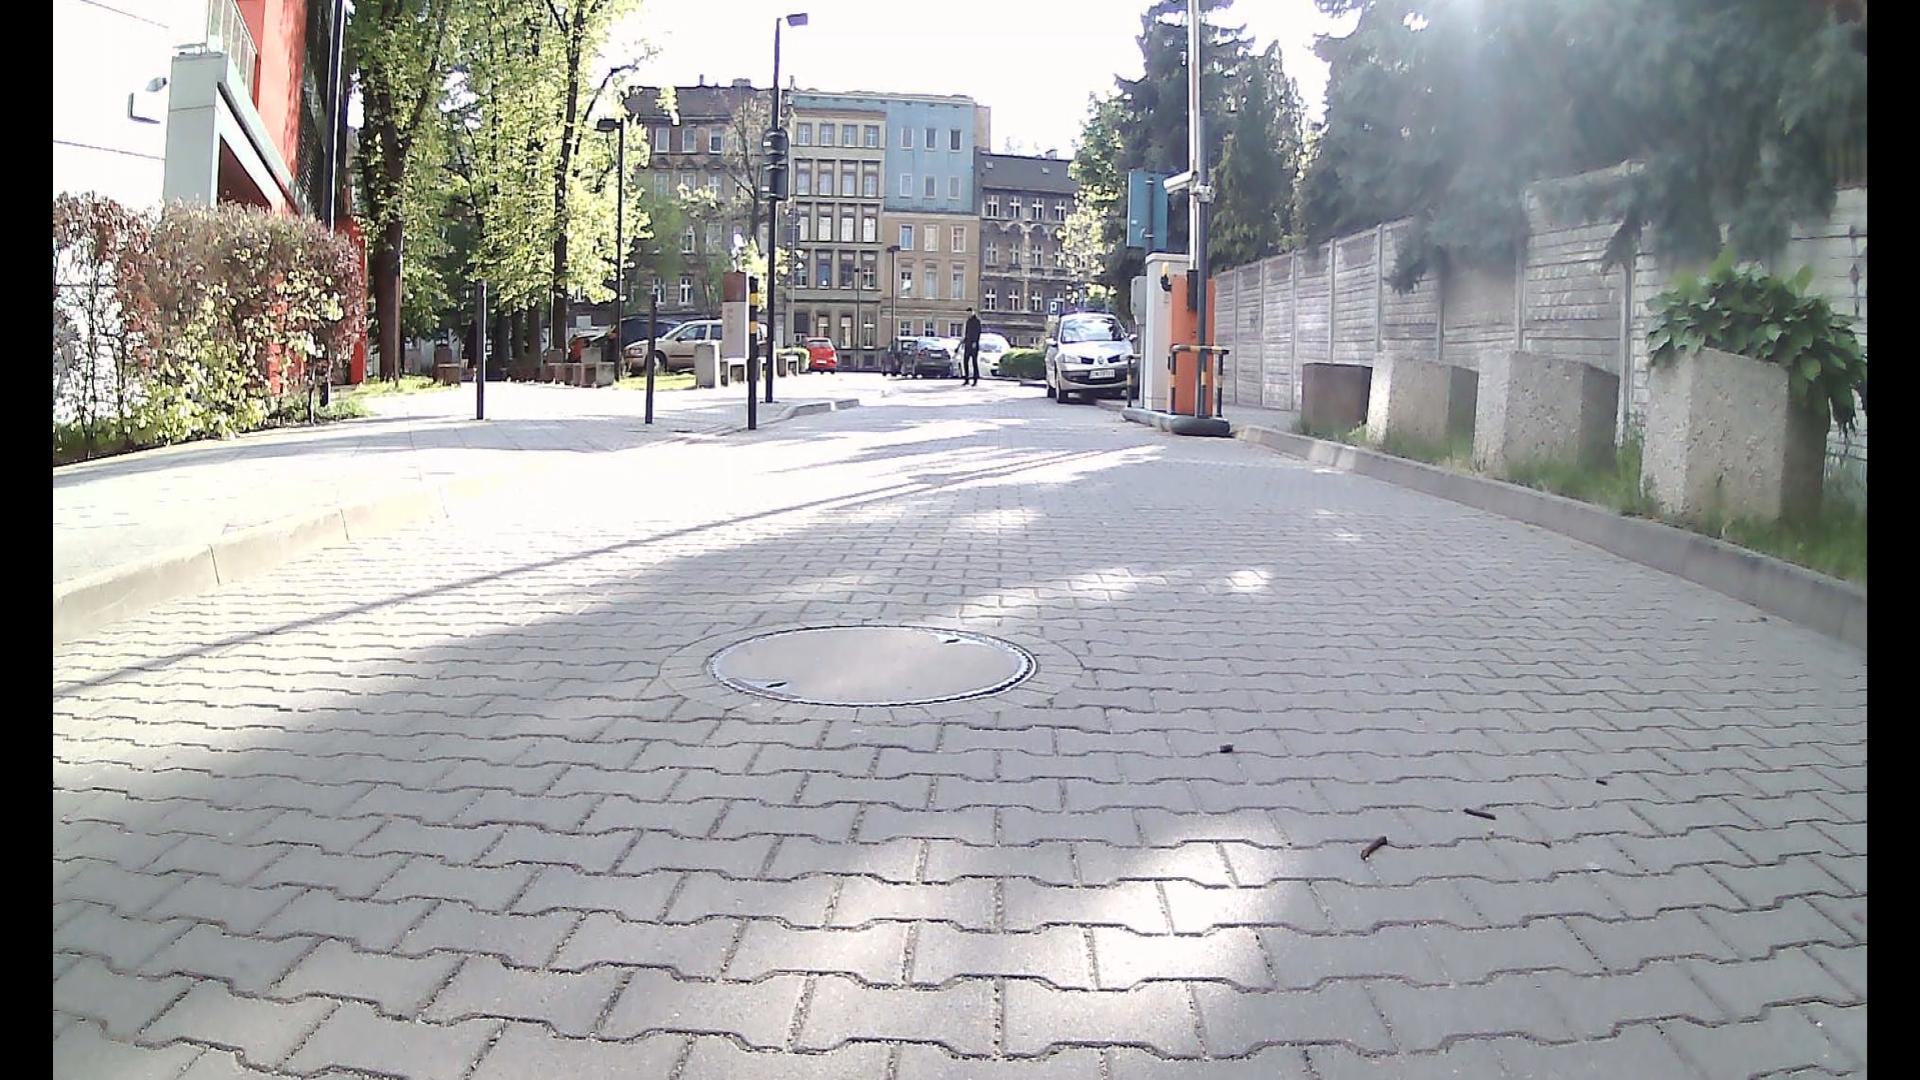bollards: (460, 261, 504, 433), (633, 274, 669, 434)
